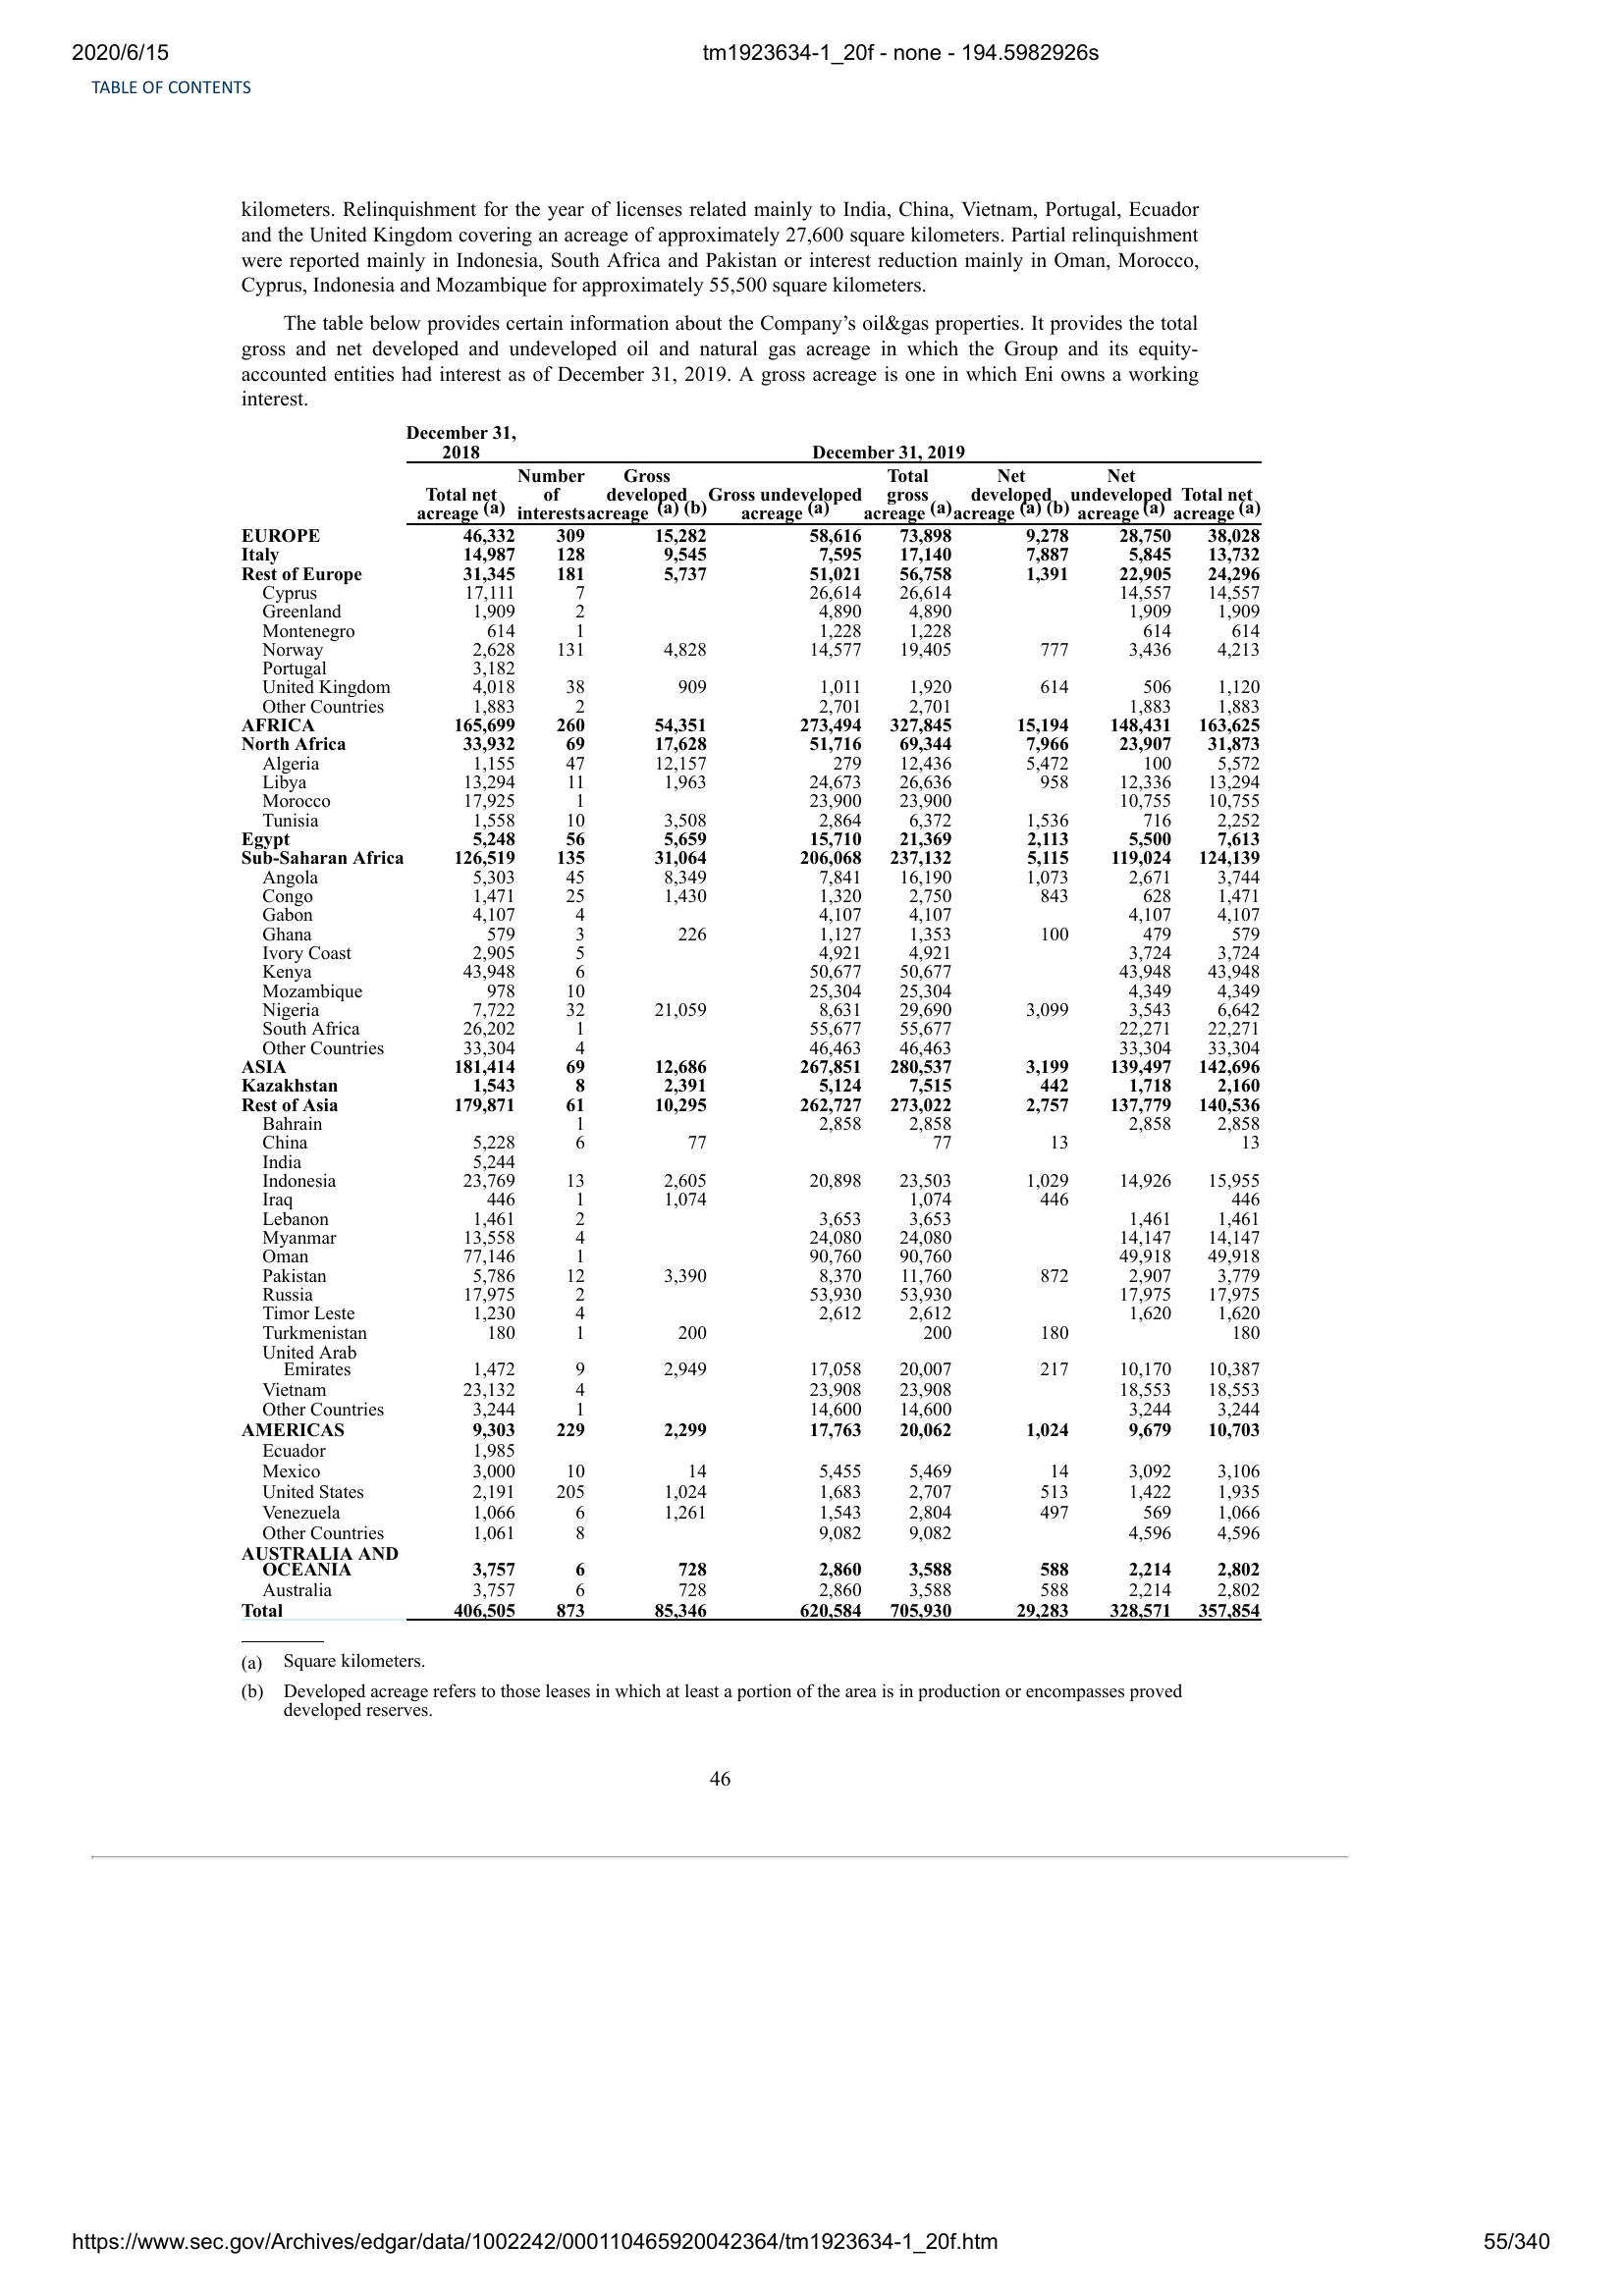table: (230, 421, 1268, 1629)
